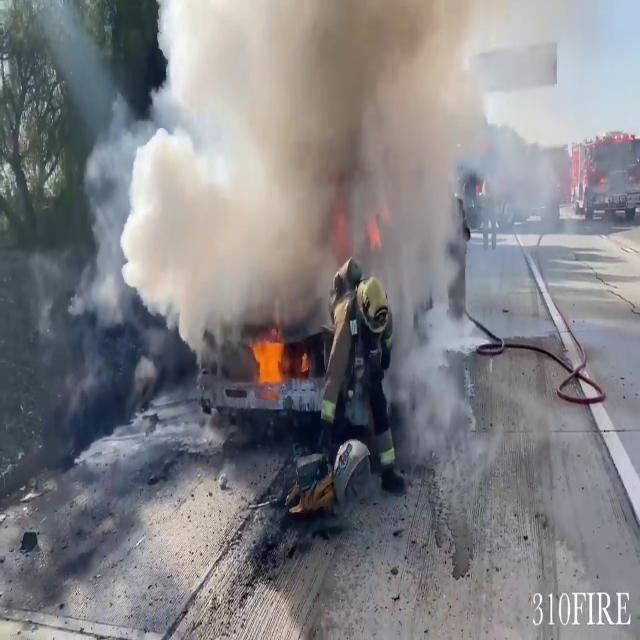Fire: (246, 325, 292, 395)
Smoke: (92, 0, 496, 340)
